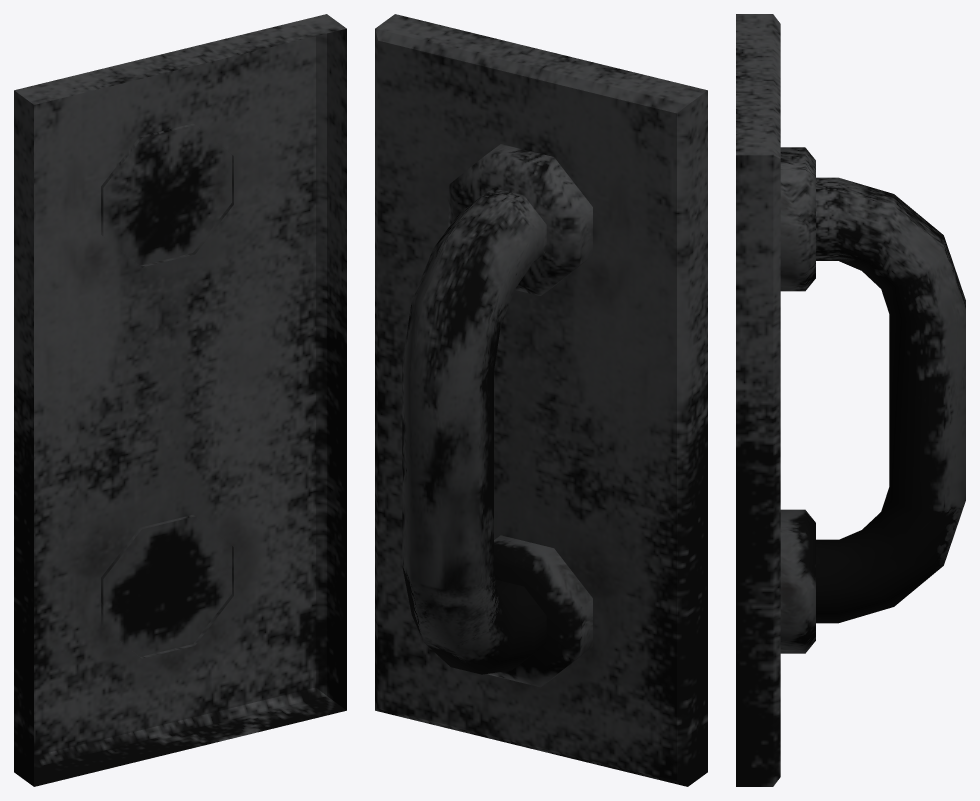
The model's file is Handle.fbx.
3 renders of one model, left to right at view 1: azimuth 30°, elevation 25°; view 2: azimuth 150°, elevation 25°; view 3: azimuth 270°, elevation 25°, orthographic. The views are drawn at different scales.
Parts seen in each view (by area): view 1: Handle; view 2: Handle; view 3: Handle.
Boxes of the visible parts, <box> form: Handle: <box>14,14,346,786</box>; Handle: <box>375,14,707,786</box>; Handle: <box>736,14,965,786</box>.
Size of the model in its own units: 16.37 by 34.11 by 11.25.
